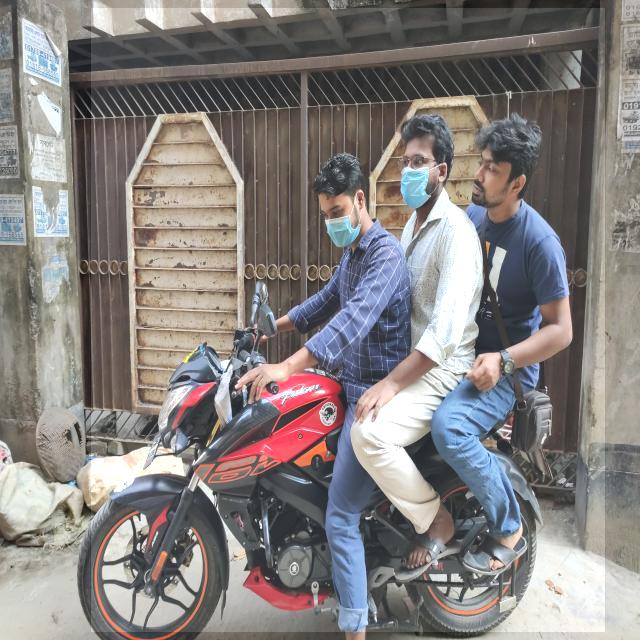Overloading: (91, 8, 605, 632)
